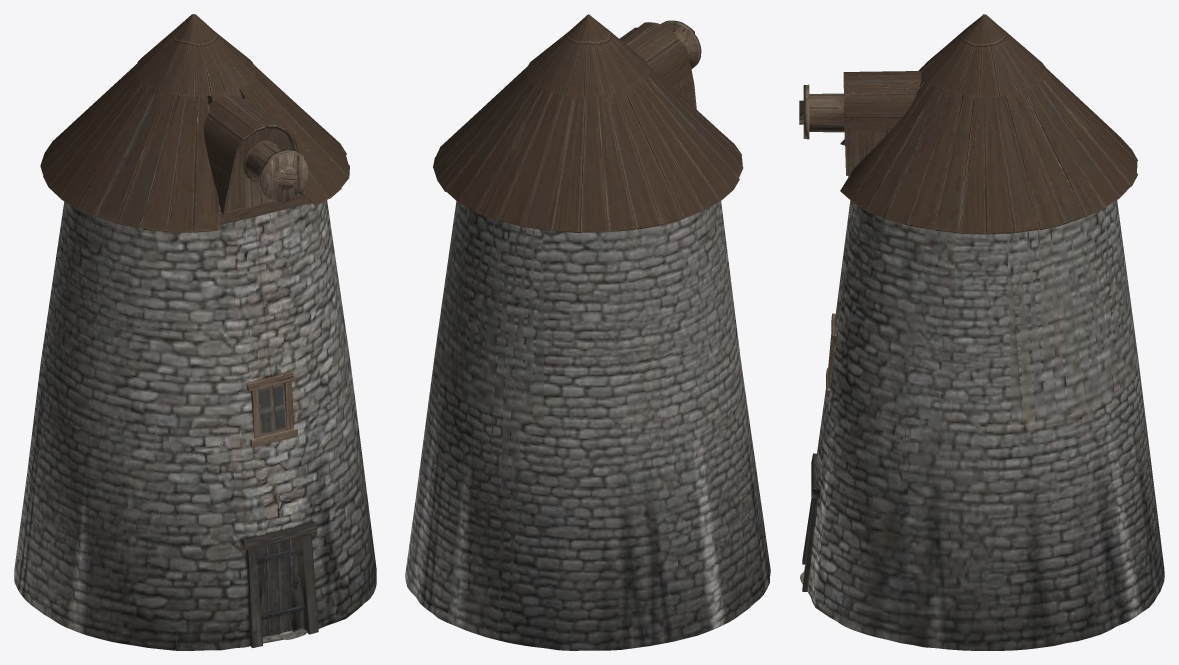
The model's file is windmill.glb.
3 renders of one model, left to right at view 1: azimuth 30°, elevation 25°; view 2: azimuth 150°, elevation 25°; view 3: azimuth 270°, elevation 25°, orthographic.
Size of the model in its own units: 0.5533 by 0.9507 by 0.5611.
1 material, 1 textured.
